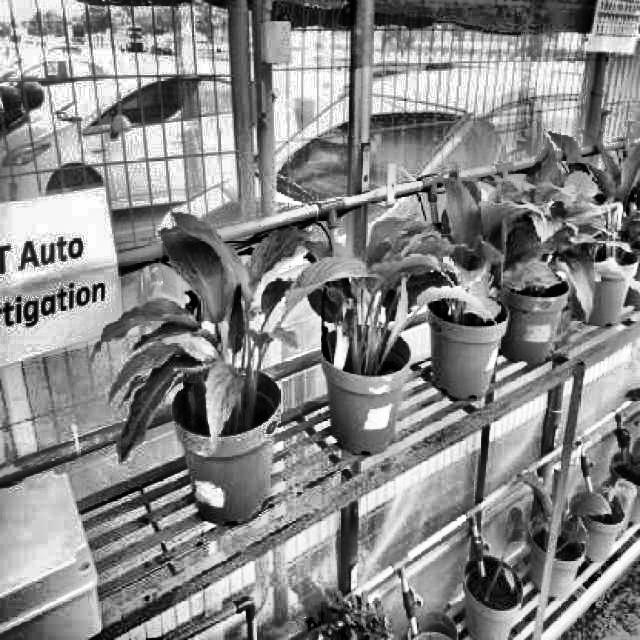plants: (92, 210, 372, 468), (269, 205, 494, 382), (515, 126, 640, 309), (417, 162, 528, 336)
